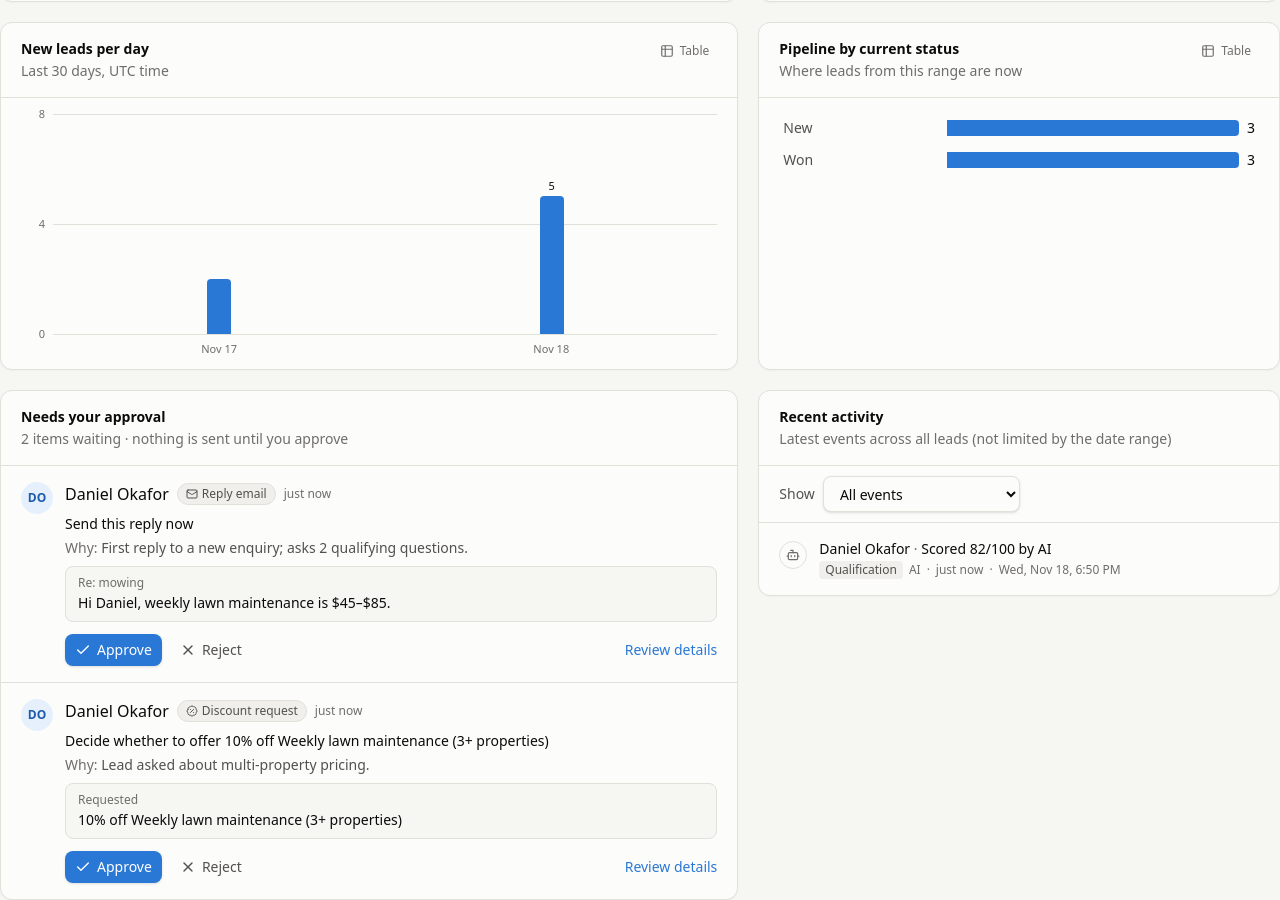
Approvals › rejects via the API
The image size is (1280, 900).
(page scrolled)
Click the button with aria-label "Reject reply email for Daniel Okafor".
click(211, 650)  # box [170,634,252,666]
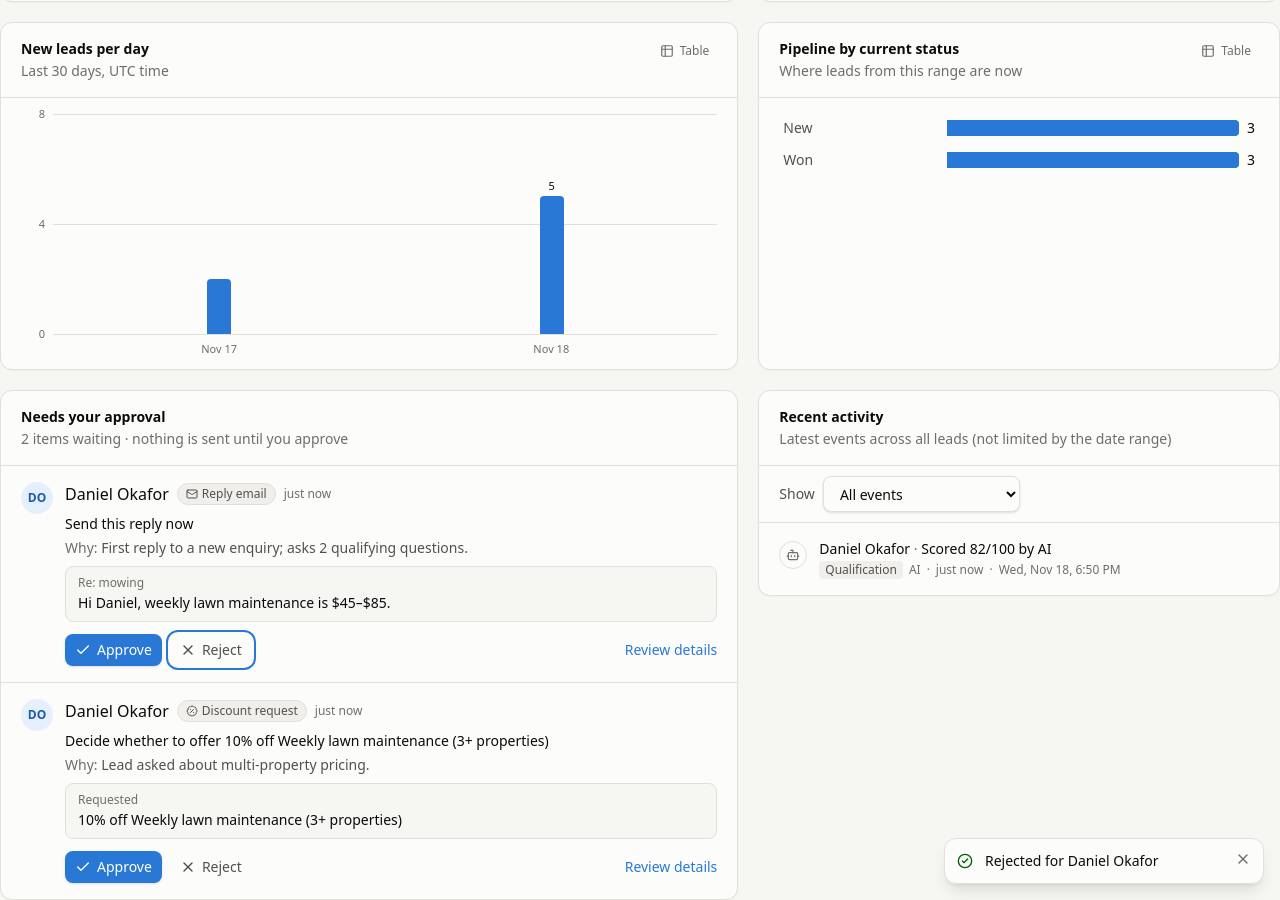
Result: the text "Rejected for Daniel Okafor" is shown at [985,851,1159,870]
